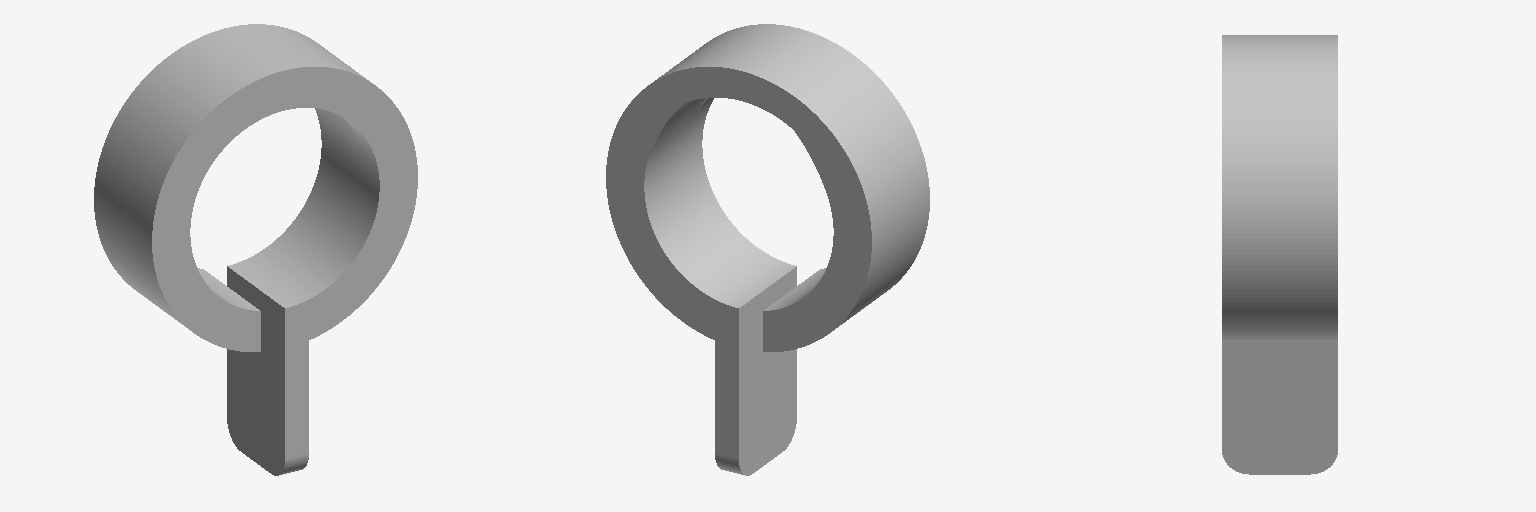
File: V5_Laser Switch (USB Laser).obj
3 views of the same model, side by side, from view 1: azimuth 30°, elevation 25°; view 2: azimuth 150°, elevation 25°; view 3: azimuth 270°, elevation 25° (orthographic).
Parts seen in each view (by area): view 1: Solid1:17; view 2: Solid1:17; view 3: Solid1:17.
Boxes of the visible parts, box(x1,y1,x2,y2) form: Solid1:17: box(94, 24, 417, 475); Solid1:17: box(606, 24, 929, 475); Solid1:17: box(1222, 35, 1337, 474).
Bounding box in the file's own units: 27.75 × 41.25 × 10.5.